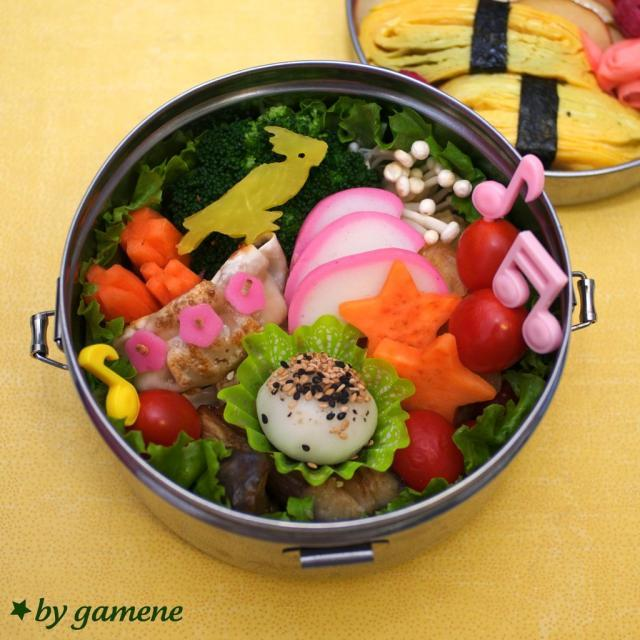Tomato: (455, 288, 535, 367), (392, 410, 465, 486), (454, 223, 518, 284), (134, 391, 198, 441)
